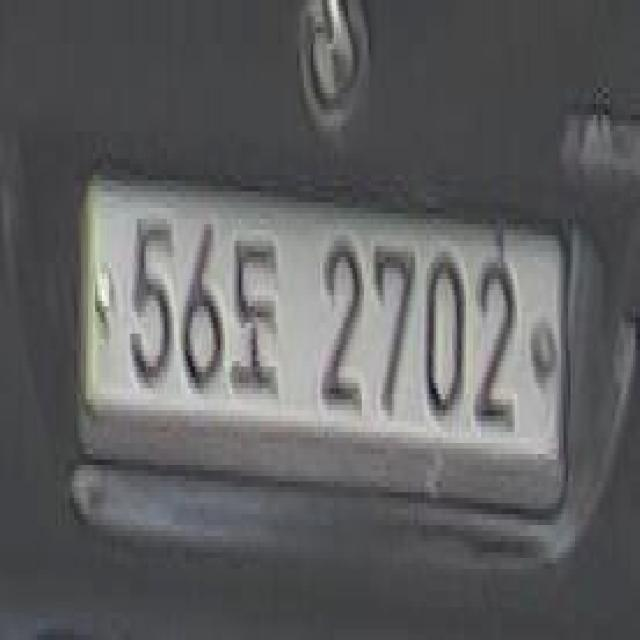illegal_plate: (75, 162, 575, 529)
